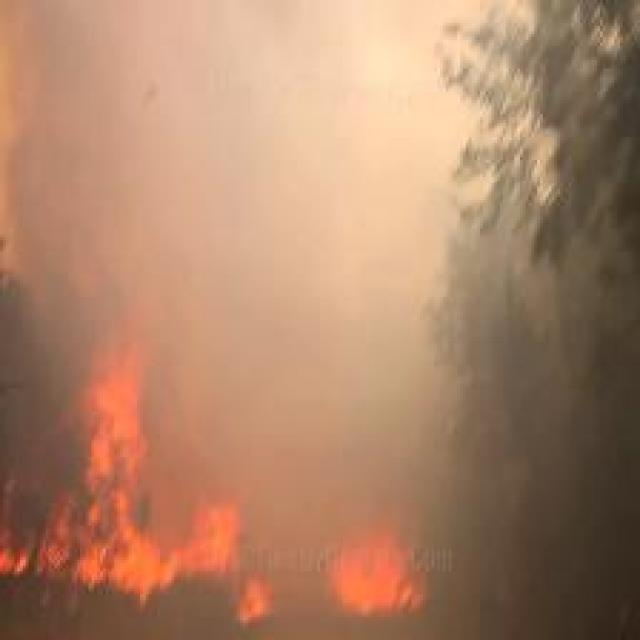Fire: (0, 304, 274, 621), (326, 520, 428, 617)
